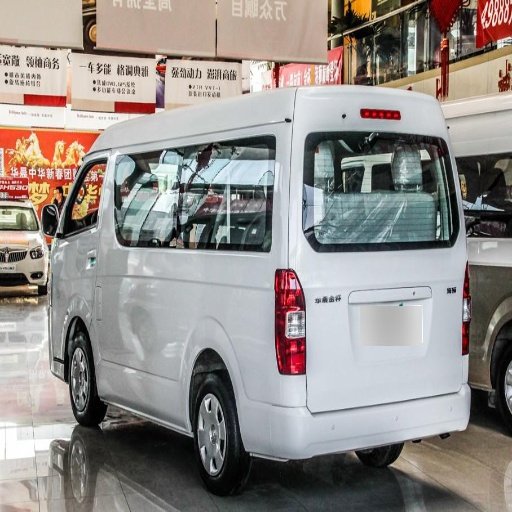back_bumper: (246, 363, 471, 461)
trunk: (128, 250, 473, 418)
